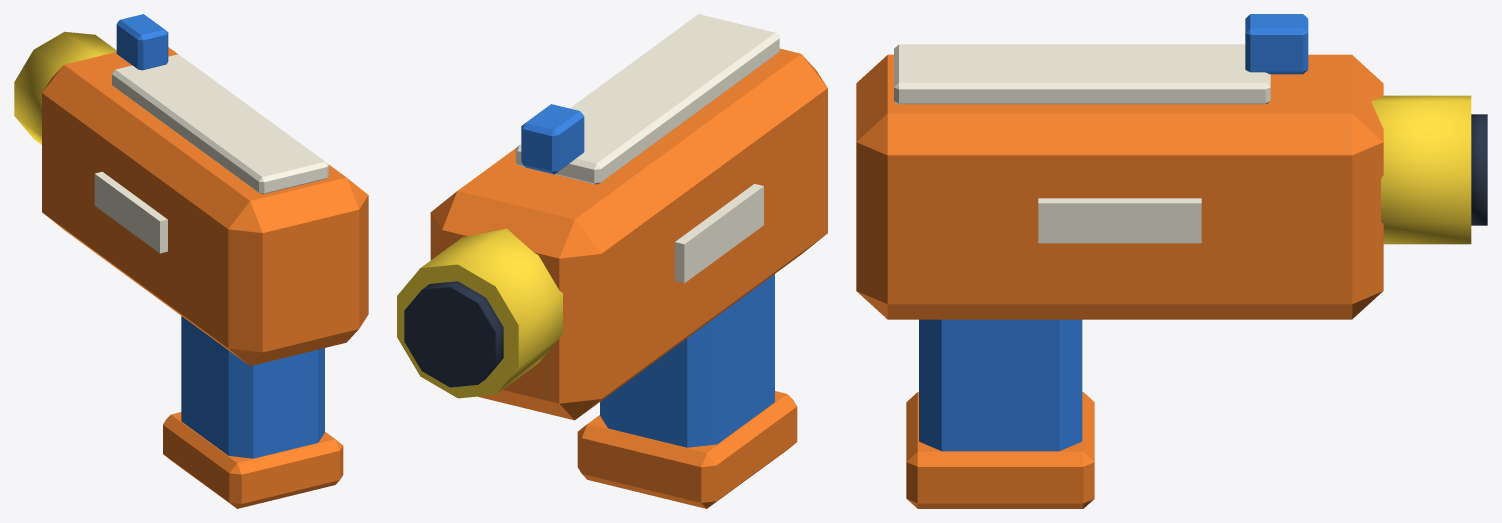
File: fps_w_dart.glb
3 renders of one model, left to right at view 1: azimuth 30°, elevation 25°; view 2: azimuth 150°, elevation 25°; view 3: azimuth 270°, elevation 25°, orthographic. The views are drawn at different scales.
Parts seen in each view (by area): view 1: detail_Tangerine, detail_Vanilla plastic, grip, Barrel, Sight; view 2: detail_Tangerine, detail_Vanilla plastic, grip, Barrel, muzzle_tip, Sight; view 3: detail_Tangerine, detail_Vanilla plastic, grip, Barrel, Sight, muzzle_tip.
Part boxes in pixels (box(x1,y1,x2,y2)): detail_Tangerine: box(42, 47, 368, 508); detail_Vanilla plastic: box(94, 54, 328, 253); grip: box(181, 316, 324, 458); Barrel: box(14, 31, 116, 144); Sight: box(116, 14, 168, 70); detail_Tangerine: box(430, 48, 827, 508); detail_Vanilla plastic: box(515, 14, 779, 283); grip: box(600, 274, 774, 447); Barrel: box(397, 228, 562, 398); muzzle_tip: box(404, 281, 503, 387); Sight: box(521, 104, 584, 174); detail_Tangerine: box(856, 54, 1383, 508); detail_Vanilla plastic: box(894, 44, 1270, 243); grip: box(919, 319, 1082, 451); Barrel: box(1371, 95, 1471, 244); Sight: box(1245, 14, 1308, 74); muzzle_tip: box(1471, 114, 1487, 225).
Bounding box in the file's own units: 0.178 × 0.4 × 0.5.
